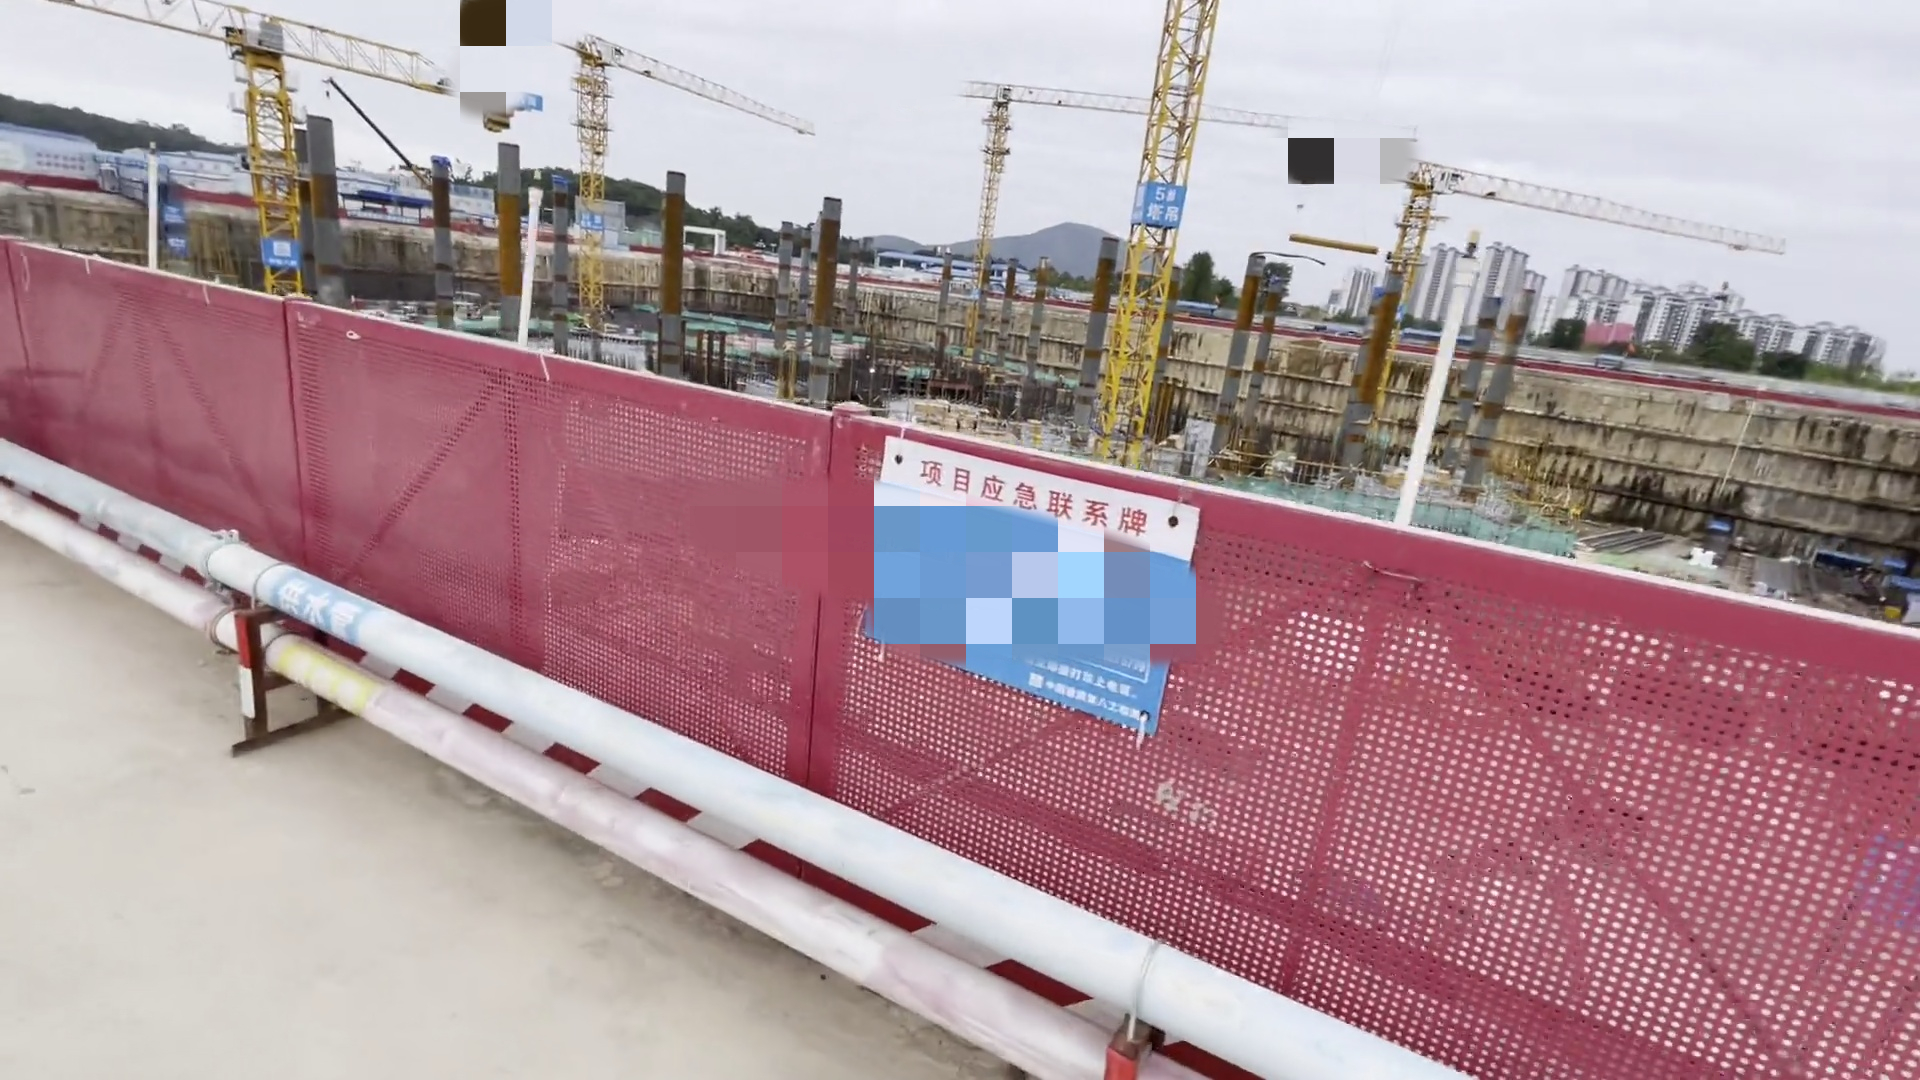fence: (1, 241, 1879, 1063)
slogan: (870, 448, 1151, 723)
